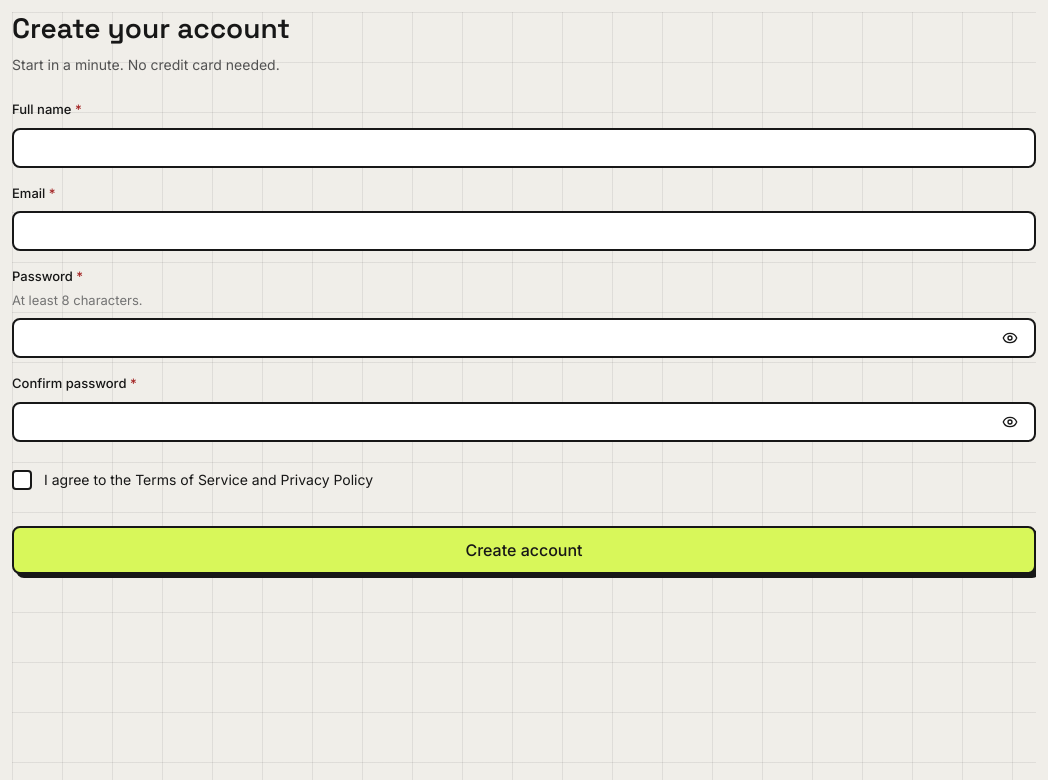
Test: RegisterForm › reports every missing field and focuses the first
This screenshot has width=1048, height=780.
What coordinates should you click on to do the following:
click the button "Create account"
I would click on:
 (524, 550)
Its box is [12, 526, 1036, 574].
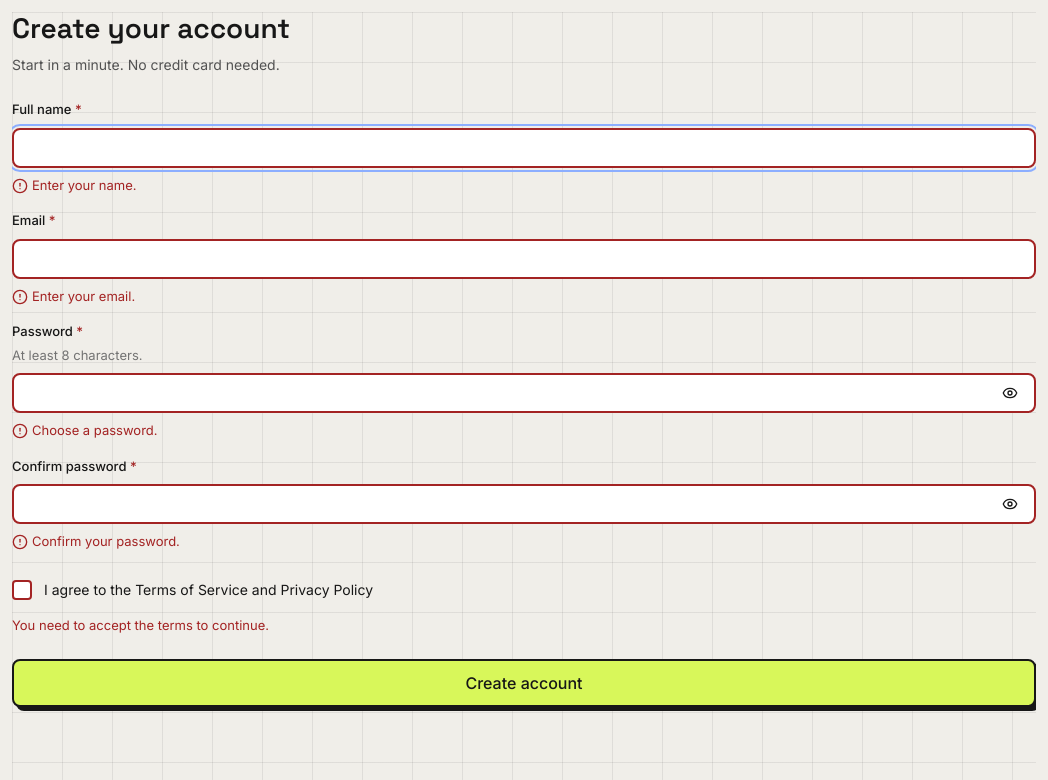
Expected: the text "Enter your name." is shown, [32, 176, 136, 195]
Expected: the text "Enter your email." is shown, [32, 287, 135, 306]
Expected: the text "Choose a password." is shown, [32, 421, 158, 441]
